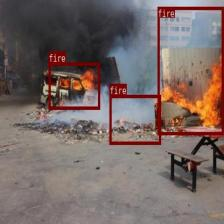fire: (158, 7, 224, 134), (110, 94, 160, 144), (48, 62, 100, 110)
